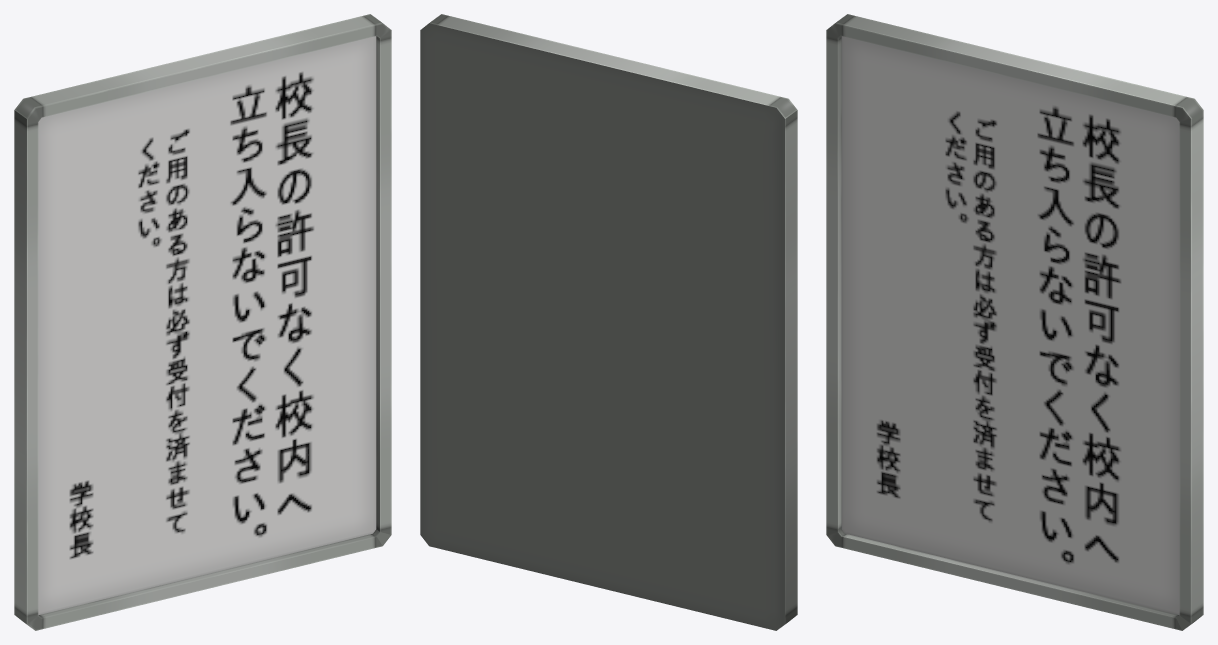
File: set_board_01.fbx
The picture shows the model from 3 angles, left to right: view 1: azimuth 30°, elevation 25°; view 2: azimuth 150°, elevation 25°; view 3: azimuth 330°, elevation 25°; orthographic projection.
Parts seen in each view (by area): view 1: set_board_01; view 2: set_board_01; view 3: set_board_01.
Boxes of the visible parts, x1=… form: set_board_01: x1=14, y1=14, x2=391, y2=630; set_board_01: x1=420, y1=14, x2=797, y2=630; set_board_01: x1=826, y1=14, x2=1203, y2=630.
Bounding box in the file's own units: 67.56 × 92.59 × 4.
